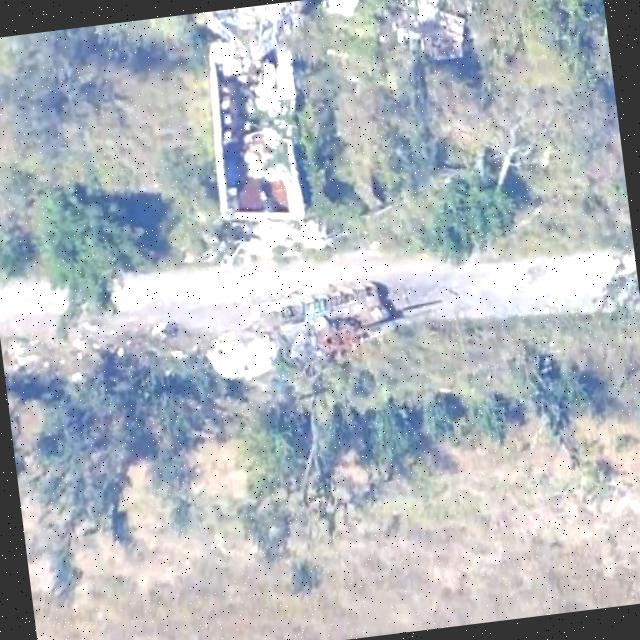Destroyed: (277, 276, 440, 364)
